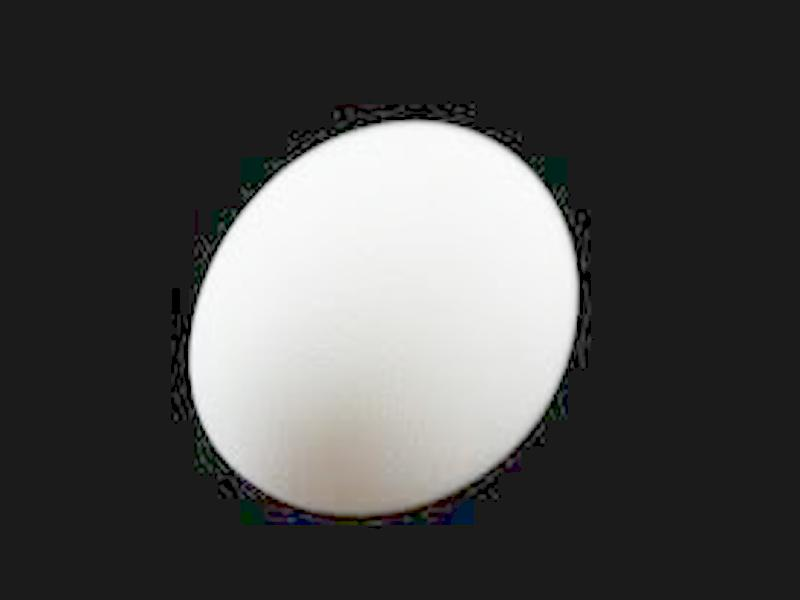Eggs: (188, 121, 575, 508)
